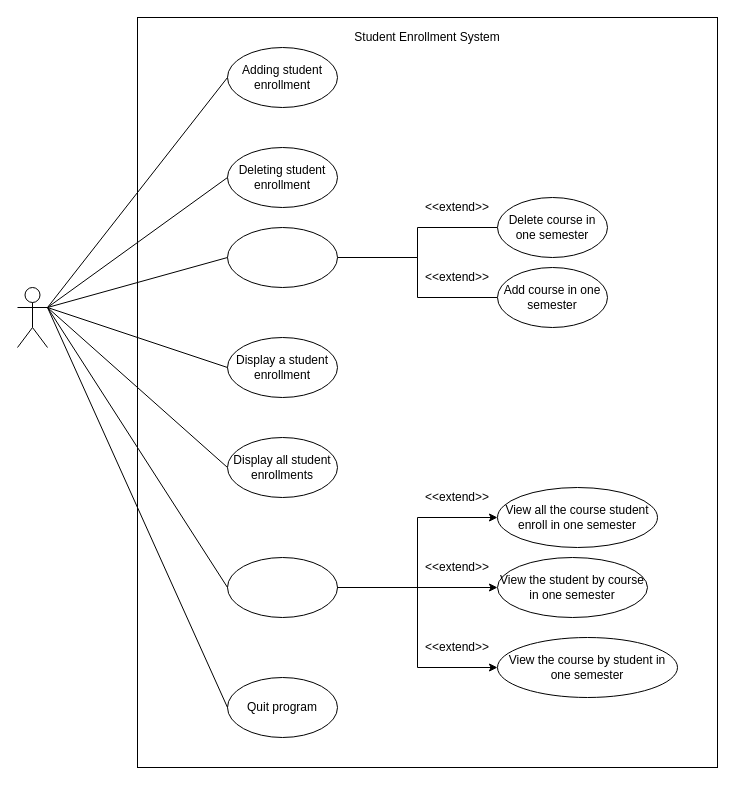
Some shapes in this 735 by 785 pixel diagram are drawn without their labels. The centre of each missing label's shape, as x and y in pixels:
"Actor" goes at point 32,317.
"Display student enrollments in variable ways" goes at point 282,587.
"Update student enrollment" goes at point 282,257.
